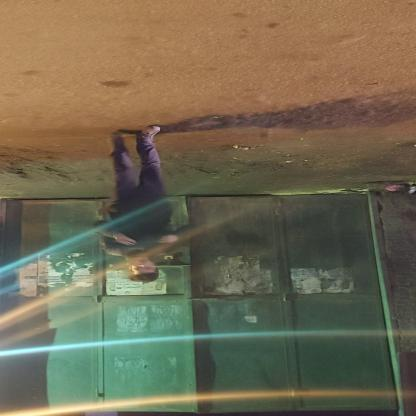long weapon: (92, 232, 184, 254)
